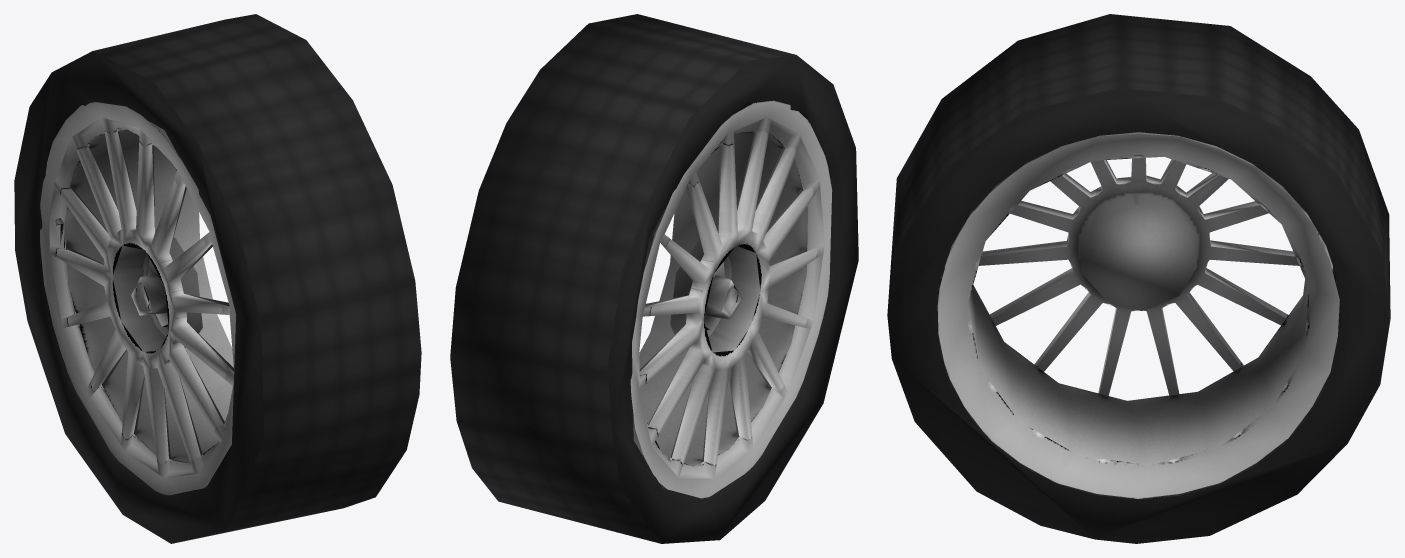
Rendered from FN_wheel_d2.obj.
3 renders of one model, left to right at view 1: azimuth 30°, elevation 25°; view 2: azimuth 150°, elevation 25°; view 3: azimuth 270°, elevation 25°, orthographic.
Parts seen in each view (by area): view 1: FN_wheel; view 2: FN_wheel; view 3: FN_wheel.
Boxes of the visible parts, x1,y1,x2,y2 form: FN_wheel: (14,14,421,543); FN_wheel: (450,14,858,543); FN_wheel: (887,14,1390,543).
Bounding box in the file's own units: 0.2181 × 0.6055 × 0.605.
1 material, 1 textured.
